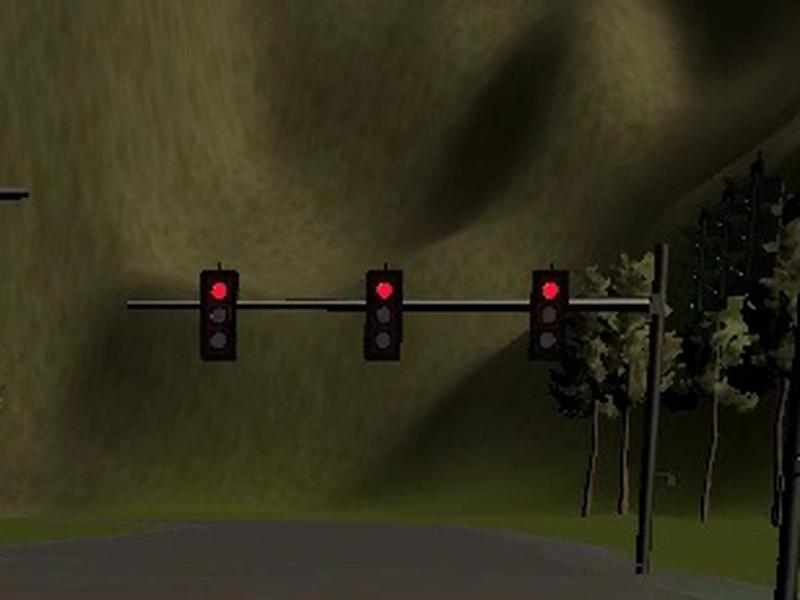Red: (528, 268, 568, 362), (363, 270, 403, 362), (200, 270, 237, 360)
